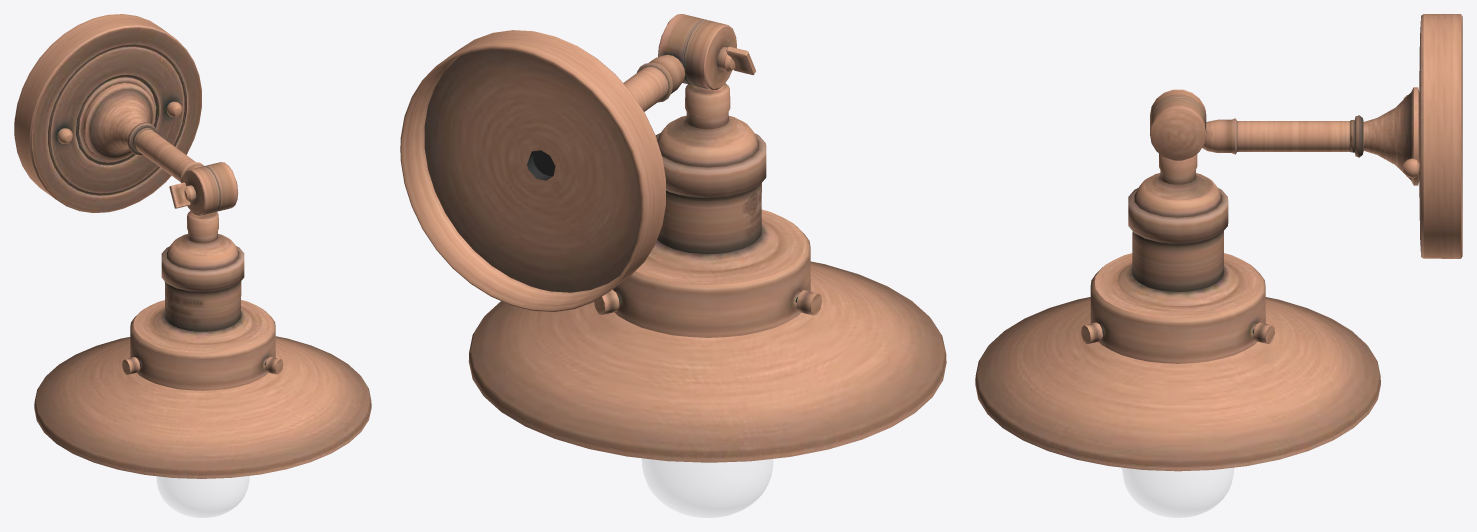
The model's file is arandela.glb.
The picture shows the model from 3 angles, left to right: view 1: azimuth 30°, elevation 25°; view 2: azimuth 150°, elevation 25°; view 3: azimuth 270°, elevation 25°; orthographic projection. The views are drawn at different scales.
Visible parts, largest first — view 1: Lamp Metal, Lamp Glass; view 2: Lamp Metal, Lamp Glass; view 3: Lamp Metal, Lamp Glass.
Part boxes in pixels (box(x1,y1,x2,y2)): Lamp Metal: box(14, 14, 371, 478); Lamp Glass: box(157, 476, 249, 517); Lamp Metal: box(400, 14, 946, 462); Lamp Glass: box(642, 458, 772, 517); Lamp Metal: box(975, 14, 1462, 471); Lamp Glass: box(1122, 468, 1233, 517).
Bounding box in the file's own units: 0.1908 × 0.2552 × 0.2265.
3 materials, 1 textured.
